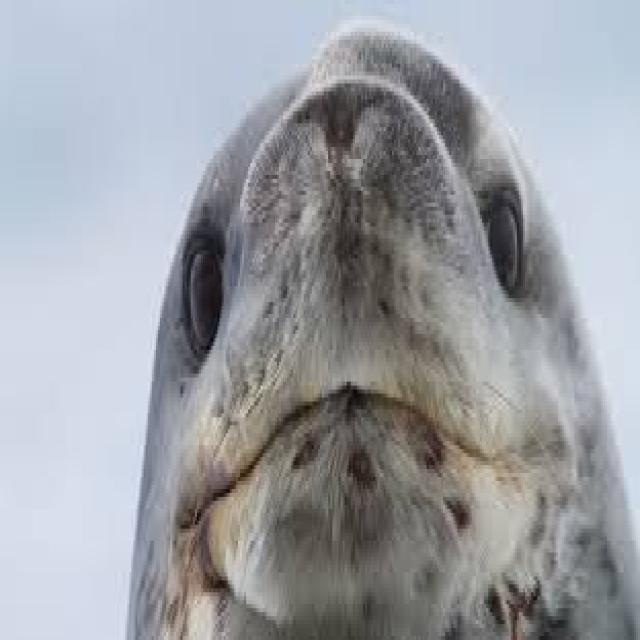seal: (127, 20, 638, 636)
